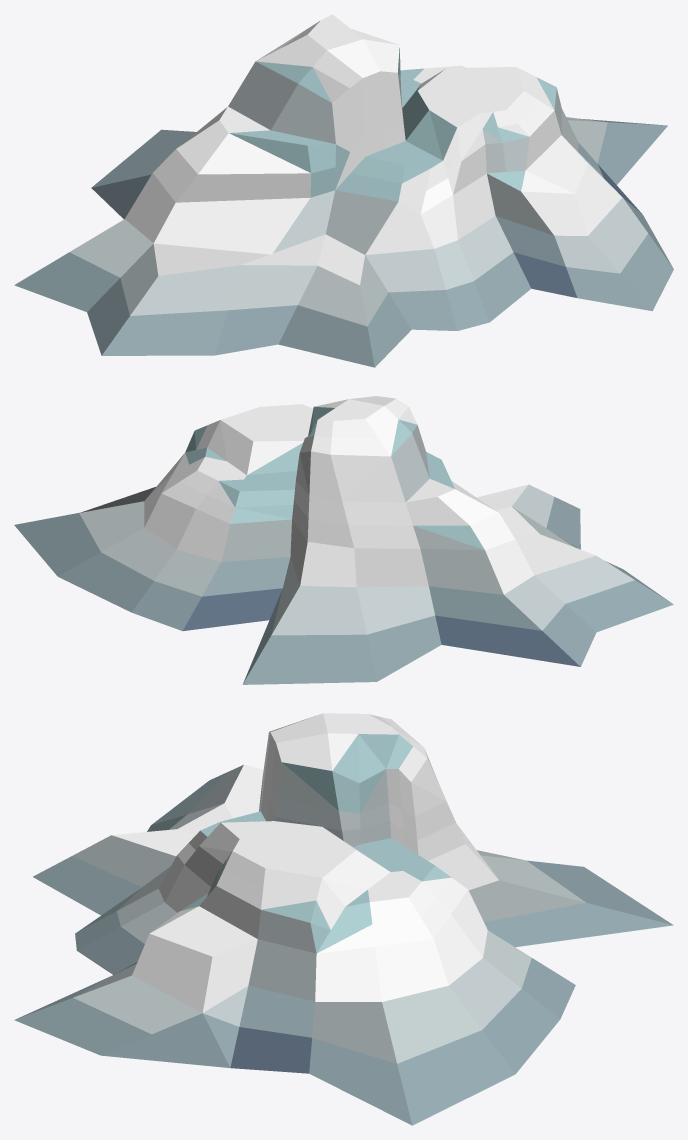
File: smallIsland1.fbx
The picture shows the model from 3 angles, top to bottom: view 1: azimuth 30°, elevation 25°; view 2: azimuth 150°, elevation 25°; view 3: azimuth 270°, elevation 25°; orthographic projection. The views are drawn at different scales.
Visible parts, largest first — view 1: stone, grass; view 2: stone, grass; view 3: stone, grass.
Boxes of the visible parts, <box> form: stone: <box>14,61,673,367</box>; grass: <box>153,14,587,214</box>; stone: <box>14,425,673,684</box>; grass: <box>161,396,515,550</box>; stone: <box>14,732,673,1125</box>; grass: <box>150,713,467,956</box>.
Bounding box in the file's own units: 1042 × 304 × 843.
Materials: 2 (2 with a texture image).
